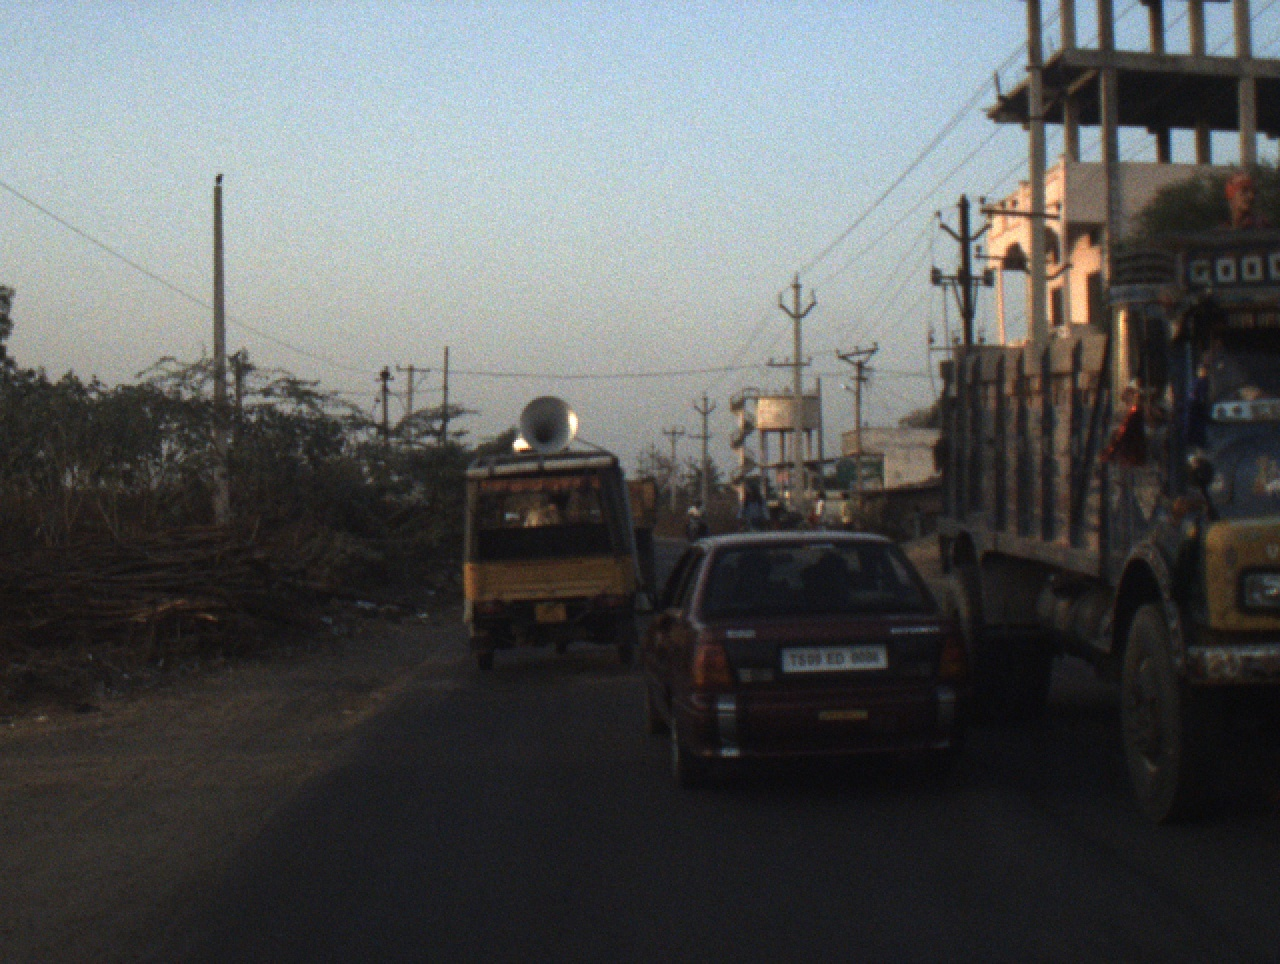autorickshaw: (451, 394, 643, 683)
car: (635, 532, 976, 798)
motorcycle: (739, 516, 779, 533), (683, 518, 708, 543)
person: (805, 486, 831, 529), (841, 488, 861, 532), (905, 496, 925, 538)
rider: (1209, 164, 1259, 240), (741, 485, 772, 530), (682, 496, 711, 539)
truck: (942, 150, 1273, 831)
vehicle fallback: (627, 472, 671, 610)
